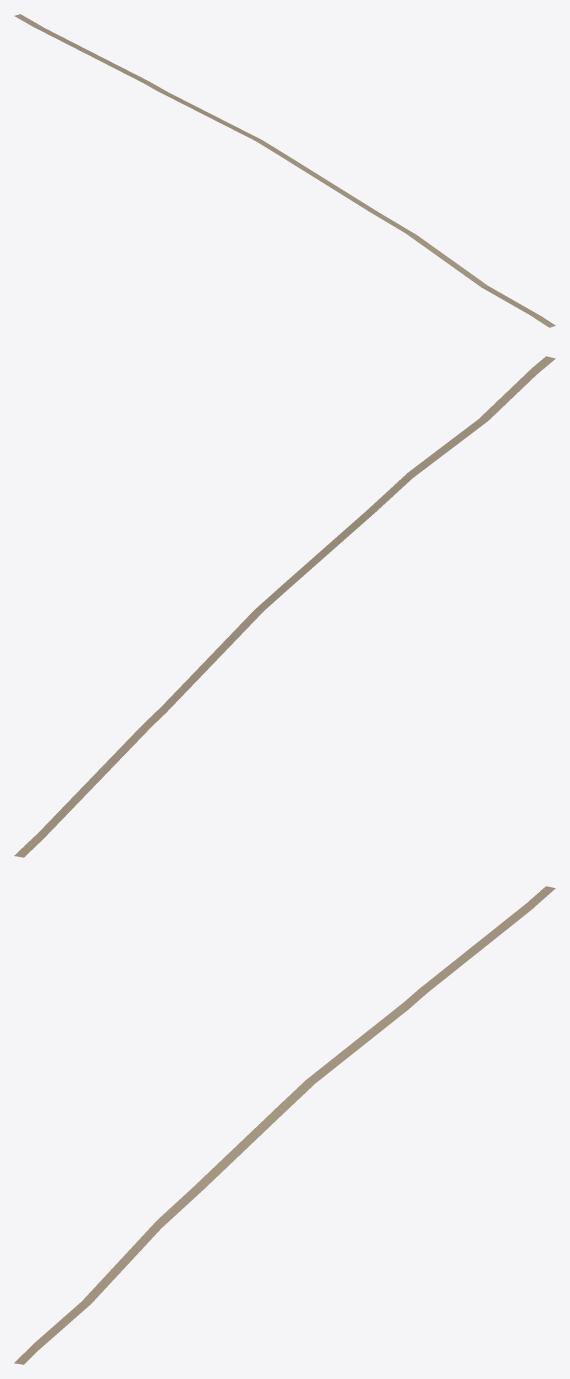
Rendered from farm_-25_-31_track.glb.
3 renders of one model, top to bottom at view 1: azimuth 30°, elevation 25°; view 2: azimuth 150°, elevation 25°; view 3: azimuth 330°, elevation 25°, orthographic. The views are drawn at different scales.
Visible parts, largest first — view 1: geometry_0; view 2: geometry_0; view 3: geometry_0.
Part boxes in pixels (left/top/right/bottom): geometry_0: left=14, top=14, right=555, bottom=327; geometry_0: left=14, top=356, right=555, bottom=857; geometry_0: left=14, top=886, right=555, bottom=1364.
Bounding box in the file's own units: 38.27 × 8.78 × 380.
